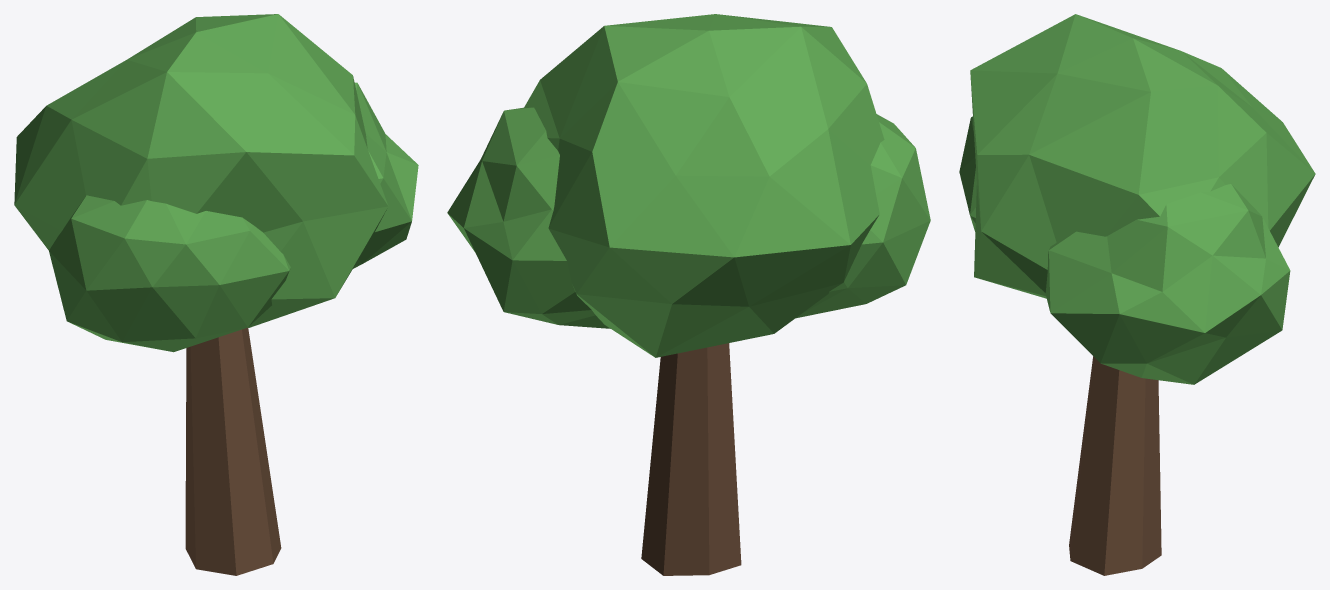
Rendered from TreeRound.fbx.
3 renders of one model, left to right at view 1: azimuth 30°, elevation 25°; view 2: azimuth 150°, elevation 25°; view 3: azimuth 270°, elevation 25°, orthographic. The views are drawn at different scales.
Visible parts, largest first — view 1: TreeRound_Leaves, TreeRound_Trunk; view 2: TreeRound_Leaves, TreeRound_Trunk; view 3: TreeRound_Leaves, TreeRound_Trunk.
Boxes of the visible parts, x1=… form: TreeRound_Leaves: x1=14, y1=14, x2=418, y2=352; TreeRound_Trunk: x1=185, y1=327, x2=281, y2=575; TreeRound_Leaves: x1=447, y1=14, x2=930, y2=357; TreeRound_Trunk: x1=641, y1=343, x2=741, y2=575; TreeRound_Leaves: x1=959, y1=14, x2=1315, y2=384; TreeRound_Trunk: x1=1069, y1=356, x2=1161, y2=575.
Size of the model in its own units: 14.71 by 19.45 by 12.45.
